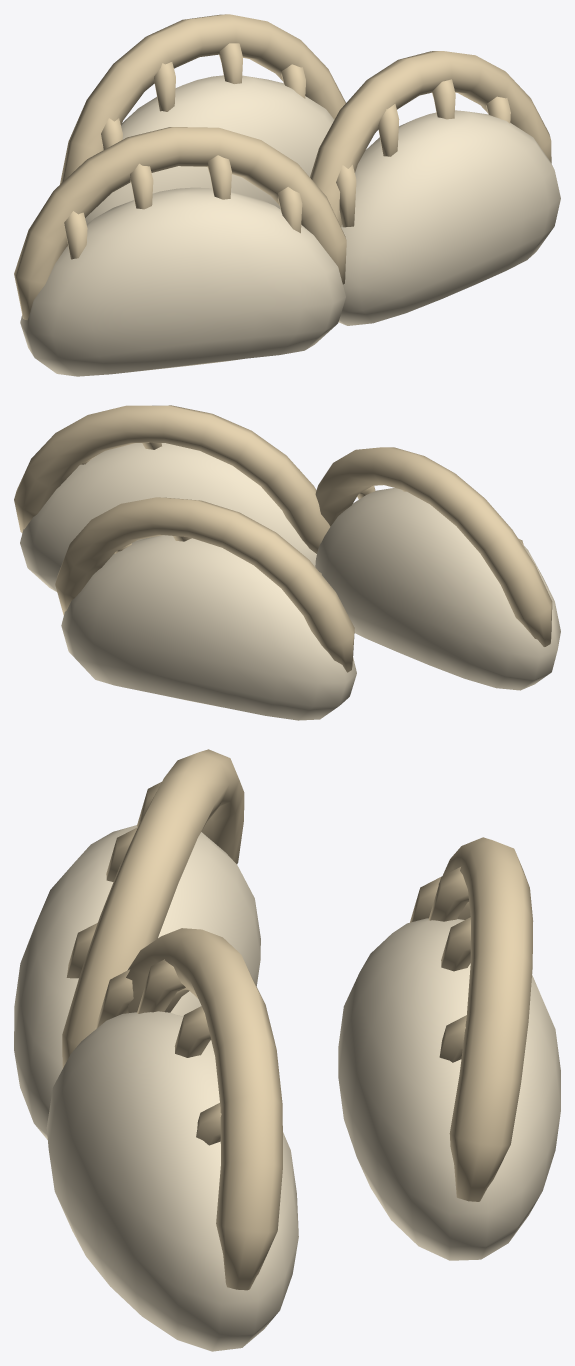
Rendered from dumpling.glb.
The picture shows the model from 3 angles, top to bottom: view 1: azimuth 30°, elevation 25°; view 2: azimuth 150°, elevation 25°; view 3: azimuth 270°, elevation 25°; orthographic projection. The views are drawn at different scales.
Visible parts, largest first — view 1: dumpling; view 2: dumpling; view 3: dumpling.
Boxes of the visible parts, x1,y1,x2,y2 form: dumpling: (14, 14, 560, 376); dumpling: (14, 405, 560, 720); dumpling: (14, 749, 560, 1351).
Bounding box in the file's own units: 0.6574 × 0.2469 × 0.3872.
